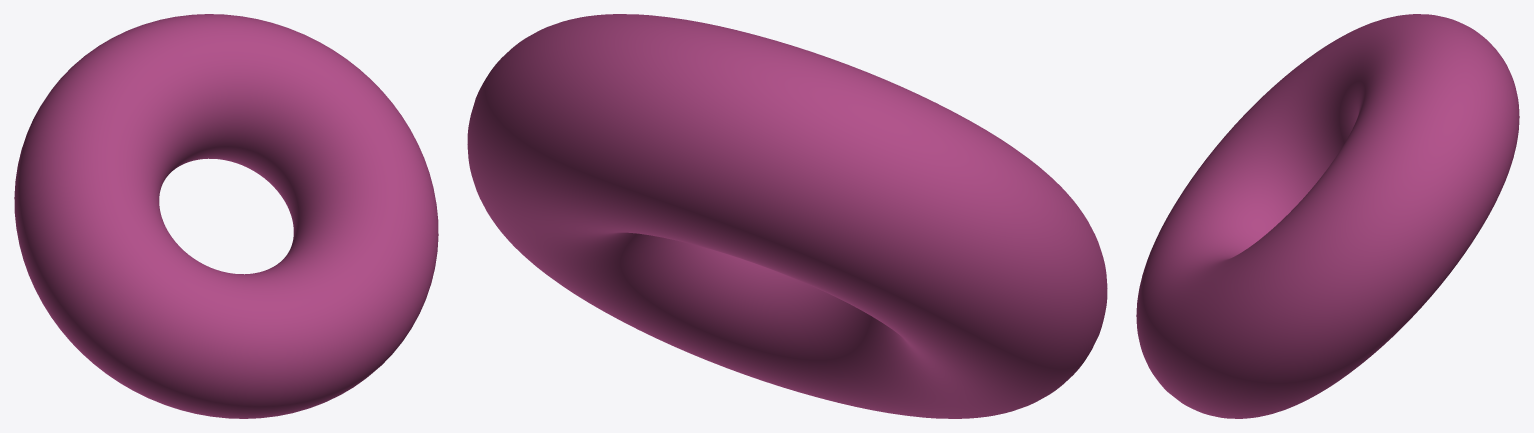
The picture shows the model from 3 angles, left to right: view 1: azimuth 30°, elevation 25°; view 2: azimuth 150°, elevation 25°; view 3: azimuth 270°, elevation 25°; orthographic projection. The views are drawn at different scales.
Parts seen in each view (by area): view 1: mesh_id27; view 2: mesh_id27; view 3: mesh_id27.
Boxes of the visible parts, bbox=[...] form: mesh_id27: bbox=[14, 14, 438, 418]; mesh_id27: bbox=[467, 14, 1107, 418]; mesh_id27: bbox=[1136, 14, 1519, 418].
Bounding box in the file's own units: 0.3531 × 0.2711 × 0.2729.
1 material, 1 textured.
